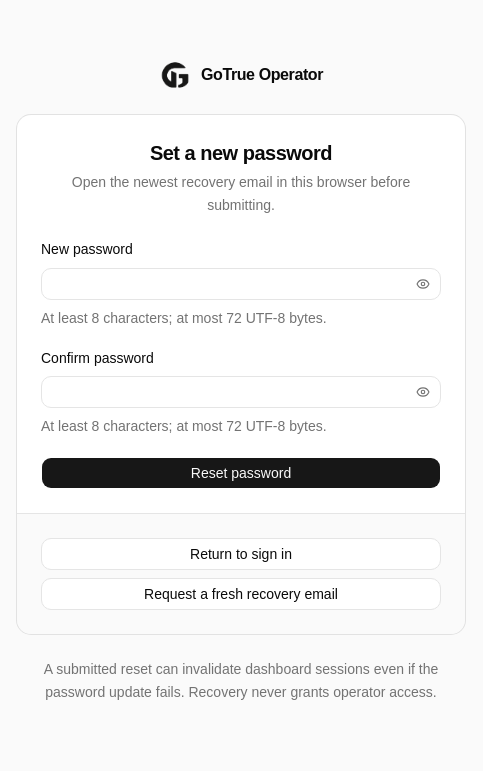
Test: same-browser recovery UI › blocks repeat reset after INVALID_RECOVERY and releases secrets
In the password field labelled "New password": {"x": 225, "y": 284} [42, 268, 409, 300], type "valid-password"
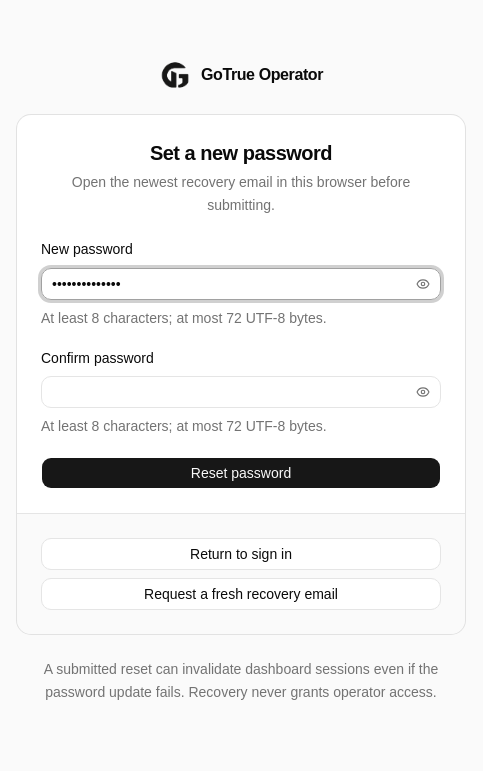
In the password field labelled "Confirm password": {"x": 225, "y": 392} [42, 376, 409, 408], type "valid-password"
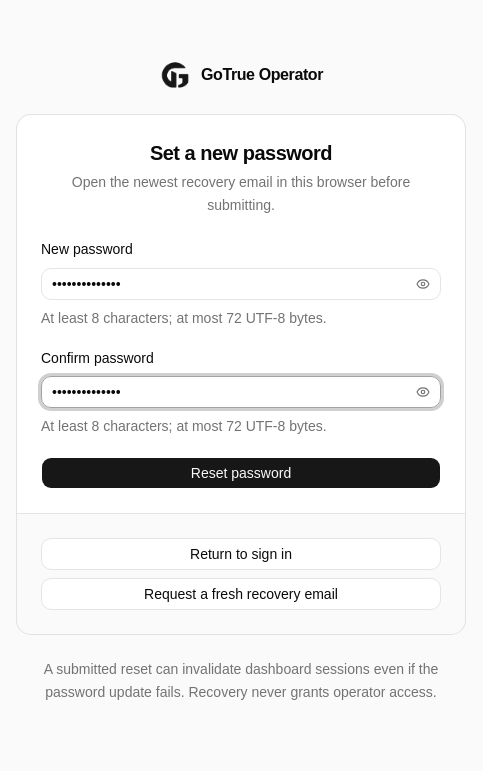
Click the button "Reset password": {"x": 241, "y": 473} [41, 457, 441, 489]
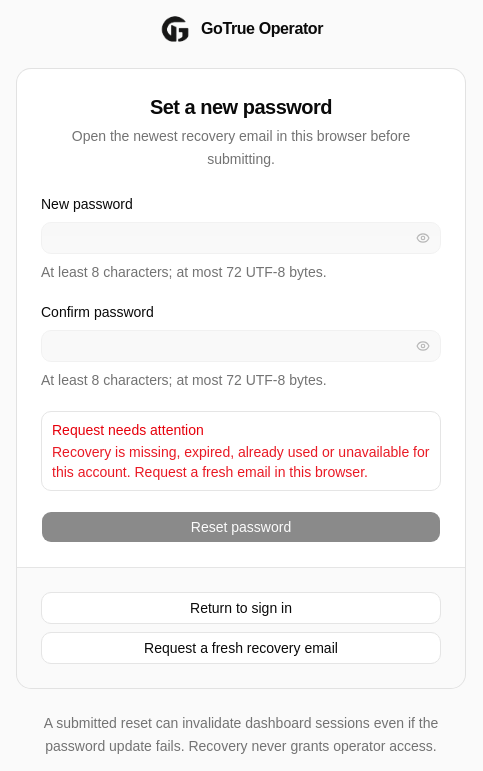
Expected: the password field labelled "New password" is empty, [42, 222, 409, 254]
Now the message is shown, box [41, 411, 441, 491]
Now the button "Reset password" is disabled, box [41, 511, 441, 543]
